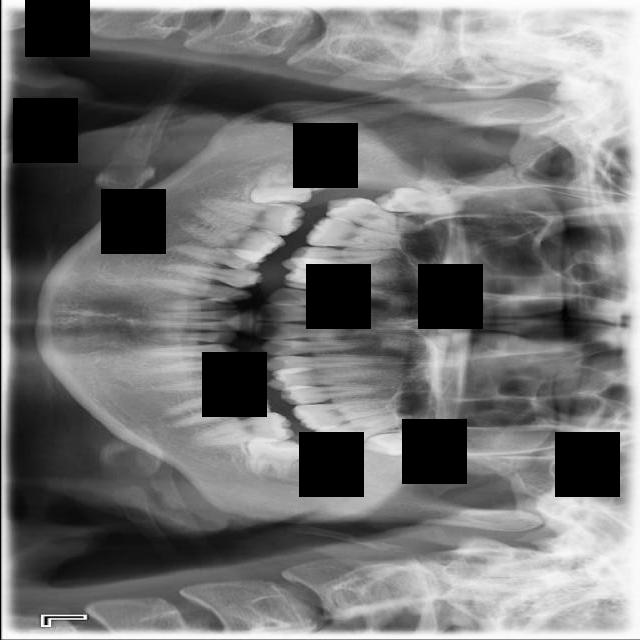3M ESPE Implant: (375, 185, 475, 217)
73: (46, 620, 56, 623)
BioHorizons Implant: (312, 410, 431, 452)
BioLife Implant: (359, 423, 458, 461)
Biomet 3i Implant: (241, 433, 307, 483)
Blue Sky Bio Implant: (187, 410, 294, 449)
Caries: (323, 191, 445, 242)
Implant: (197, 194, 305, 238)
Keystone Dental Implant: (247, 162, 312, 205)
